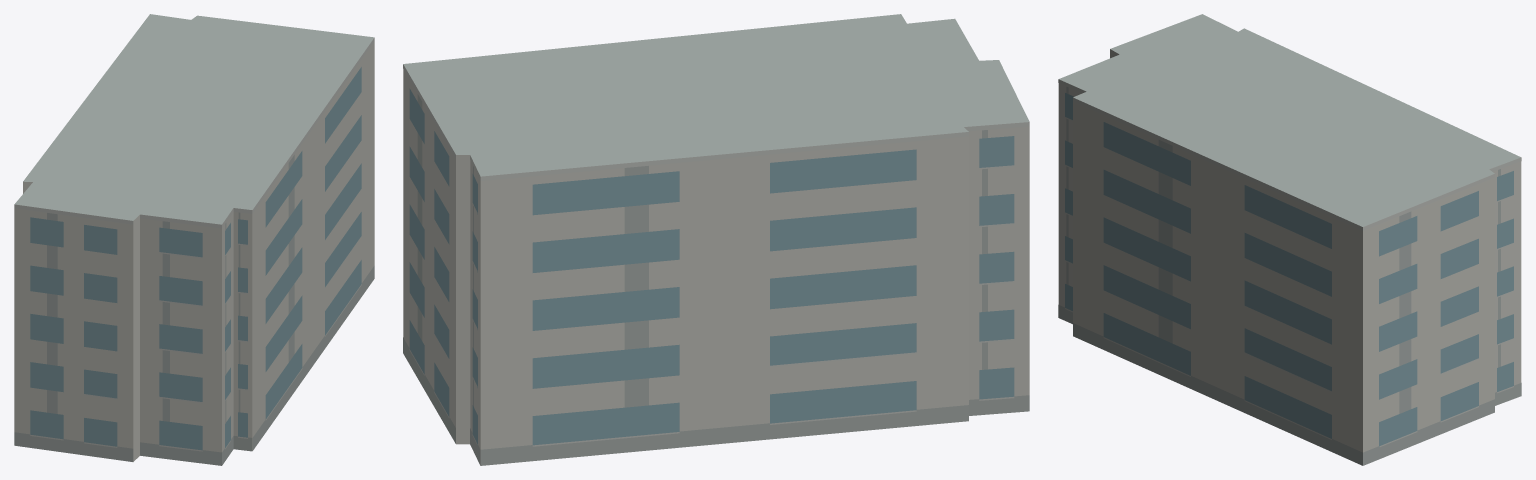
File: survey-upis-32509683.glb
The picture shows the model from 3 angles, left to right: view 1: azimuth 30°, elevation 25°; view 2: azimuth 150°, elevation 25°; view 3: azimuth 270°, elevation 25°; orthographic projection. The views are drawn at different scales.
Visible parts, largest first — view 1: survey-upis-32509683.tmp; view 2: survey-upis-32509683.tmp; view 3: survey-upis-32509683.tmp.
Part boxes in pixels (x1,y1,x2,y2): survey-upis-32509683.tmp: (14, 14, 374, 465); survey-upis-32509683.tmp: (403, 14, 1029, 465); survey-upis-32509683.tmp: (1058, 14, 1521, 465).
Size of the model in its own units: 29.21 by 15.25 by 26.8.
